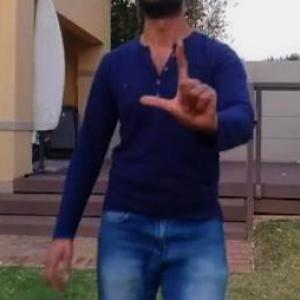land_hand: (138, 32, 226, 139)
